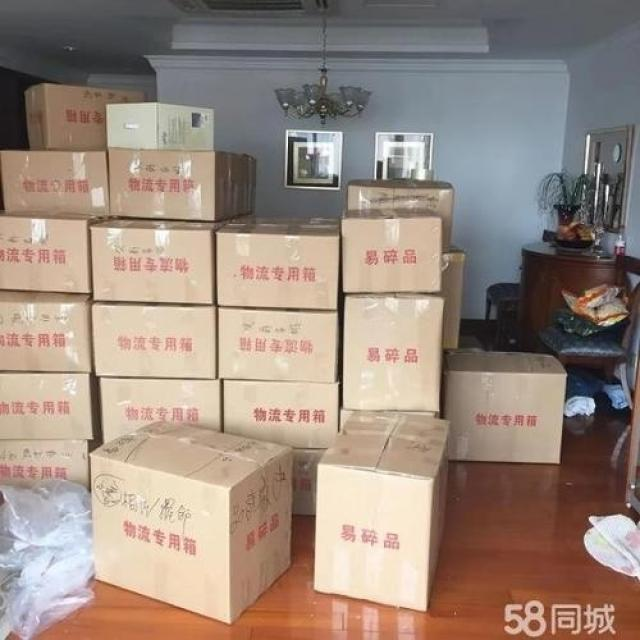box: (89, 411, 297, 623), (313, 405, 449, 610), (441, 346, 566, 460), (213, 210, 340, 309), (88, 217, 232, 303), (341, 291, 444, 411), (90, 300, 219, 378), (216, 307, 340, 383), (108, 152, 244, 219), (342, 205, 444, 294), (21, 81, 148, 151), (0, 212, 105, 292), (344, 178, 455, 252), (101, 376, 223, 442), (221, 379, 340, 446), (0, 149, 109, 217), (0, 291, 91, 372), (0, 369, 95, 439), (0, 435, 93, 494), (107, 104, 213, 149), (440, 251, 469, 348), (290, 447, 324, 519), (241, 154, 257, 212)
